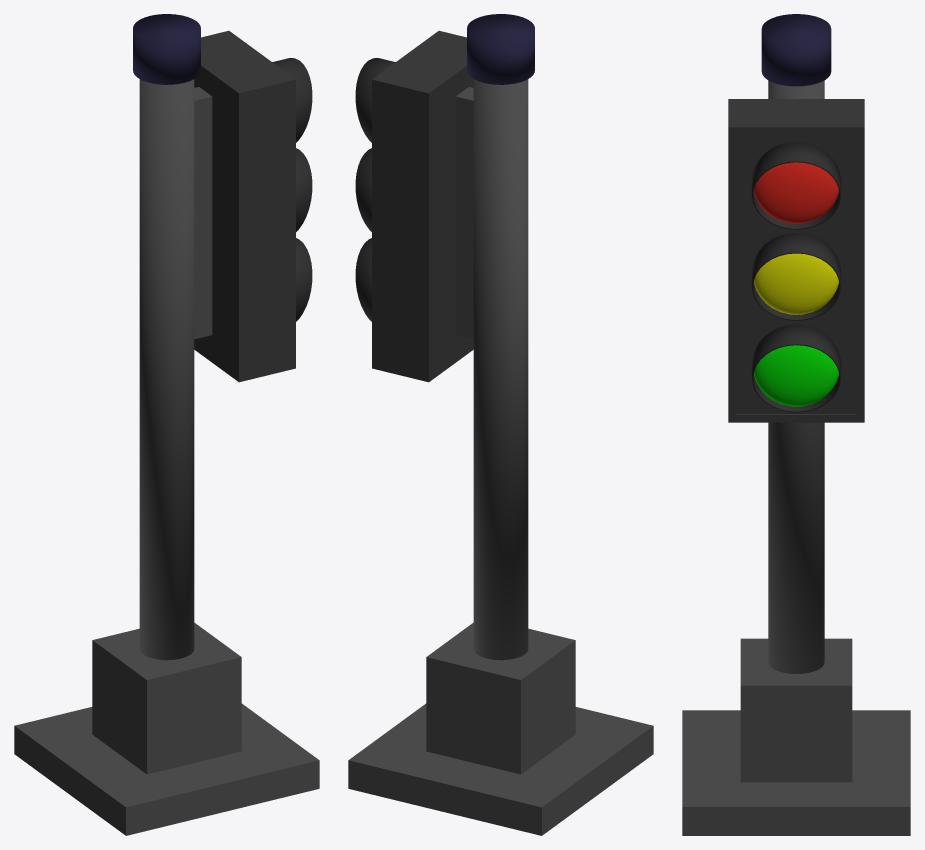
Rendered from 红绿灯.fbx.
The picture shows the model from 3 angles, left to right: view 1: azimuth 30°, elevation 25°; view 2: azimuth 150°, elevation 25°; view 3: azimuth 270°, elevation 25°; orthographic projection. The views are drawn at different scales.
Visible parts, largest first — view 1: 红绿灯; view 2: 红绿灯; view 3: 红绿灯, 红灯, 绿灯, 黄灯.
Boxes of the visible parts, x1,y1,x2,y2 form: 红绿灯: (14,14,319,835); 红绿灯: (348,14,653,835); 红绿灯: (682,14,910,835); 红灯: (754,162,838,223); 绿灯: (754,345,838,406); 黄灯: (754,253,838,314).
Bounding box in the file's own units: 98.96 × 306 × 83.43.
